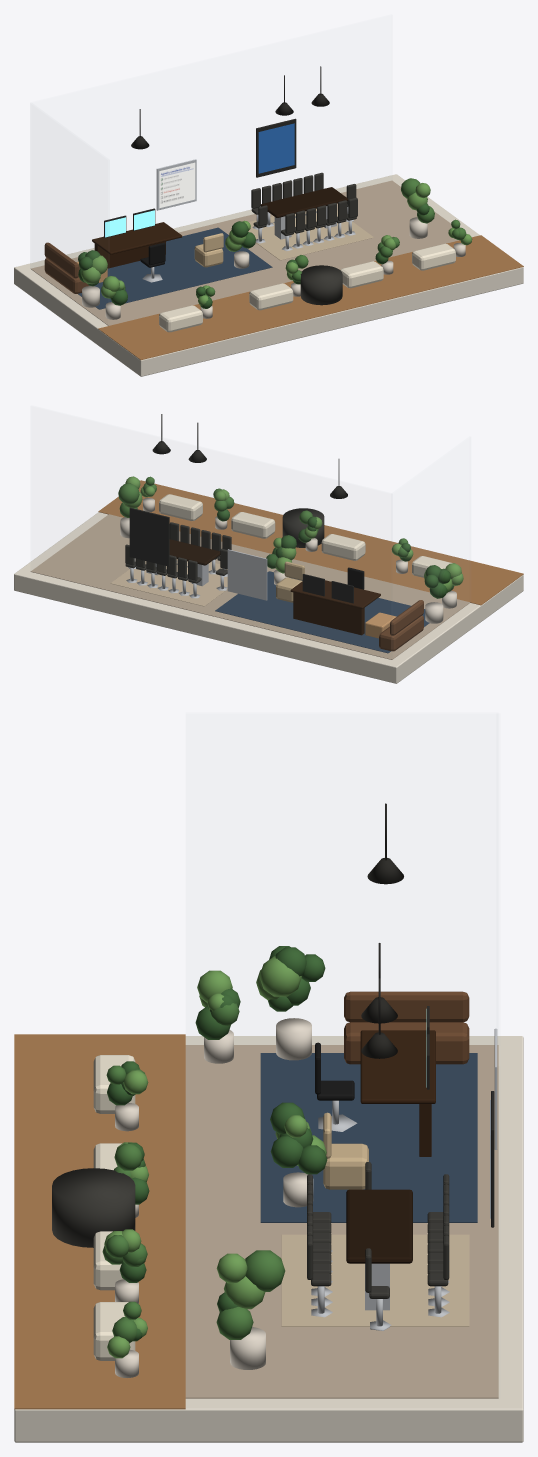
3 views of the same model, one above another, from view 1: azimuth 30°, elevation 25°; view 2: azimuth 150°, elevation 25°; view 3: azimuth 270°, elevation 25° (orthographic). The views are drawn at different scales.
Visible parts, largest first — view 1: LM_P5, Cube.097, Plane; view 2: LM_P5; view 3: LM_P5.
Boxes of the visible parts, box(x1,y1,x2,y2) form: LM_P5: box(14, 66, 523, 376); Cube.097: box(258, 123, 294, 173); Plane: box(159, 162, 195, 208); LM_P5: box(14, 414, 523, 683); LM_P5: box(14, 803, 523, 1442).
Size of the model in its own units: 10.6 by 4.85 by 6.1.
28 materials, 1 textured.
